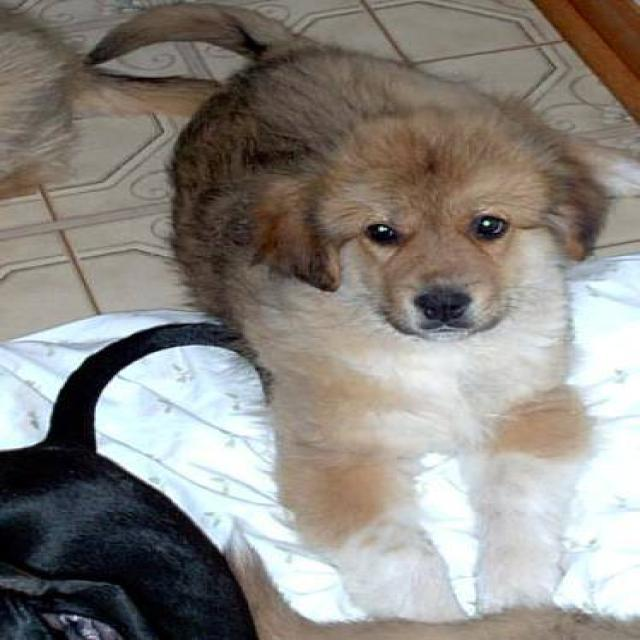dog: (81, 1, 638, 624)
